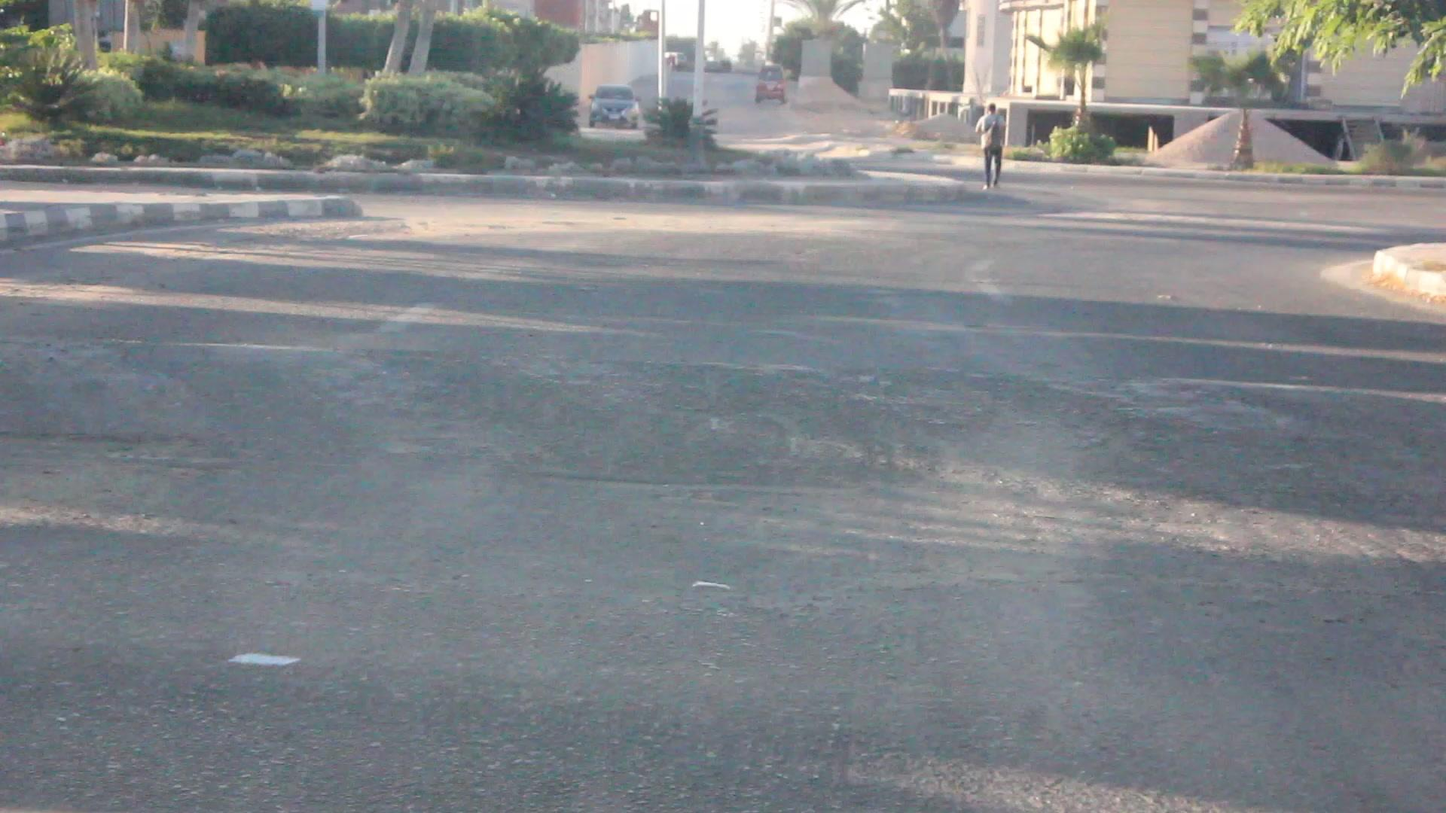Bump: (2, 335, 1446, 506)
Pothole: (19, 433, 264, 493)
